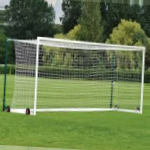goals: (10, 34, 148, 121)
